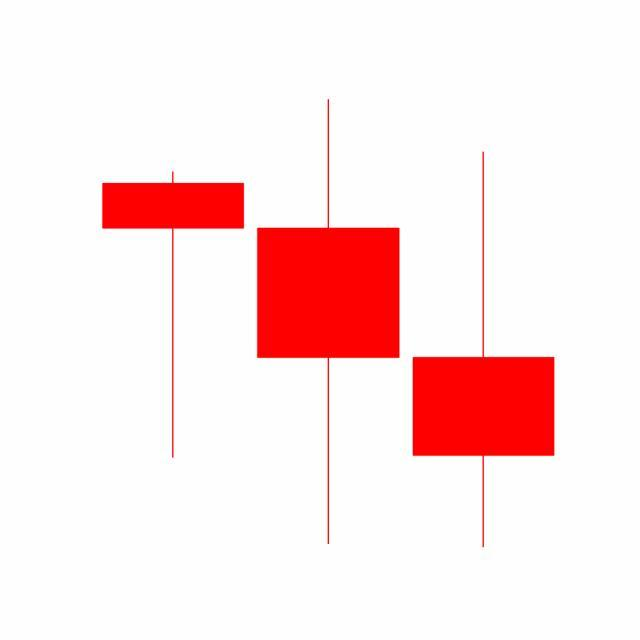Gravestone Doji: (406, 147, 562, 552)
